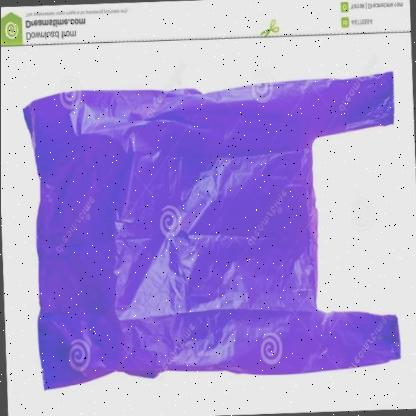Others: (19, 70, 401, 394)
